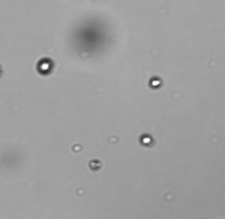Dead Cell: (89, 159, 102, 170)
Living Cell: (37, 57, 52, 75), (140, 135, 154, 146), (150, 77, 162, 89)
